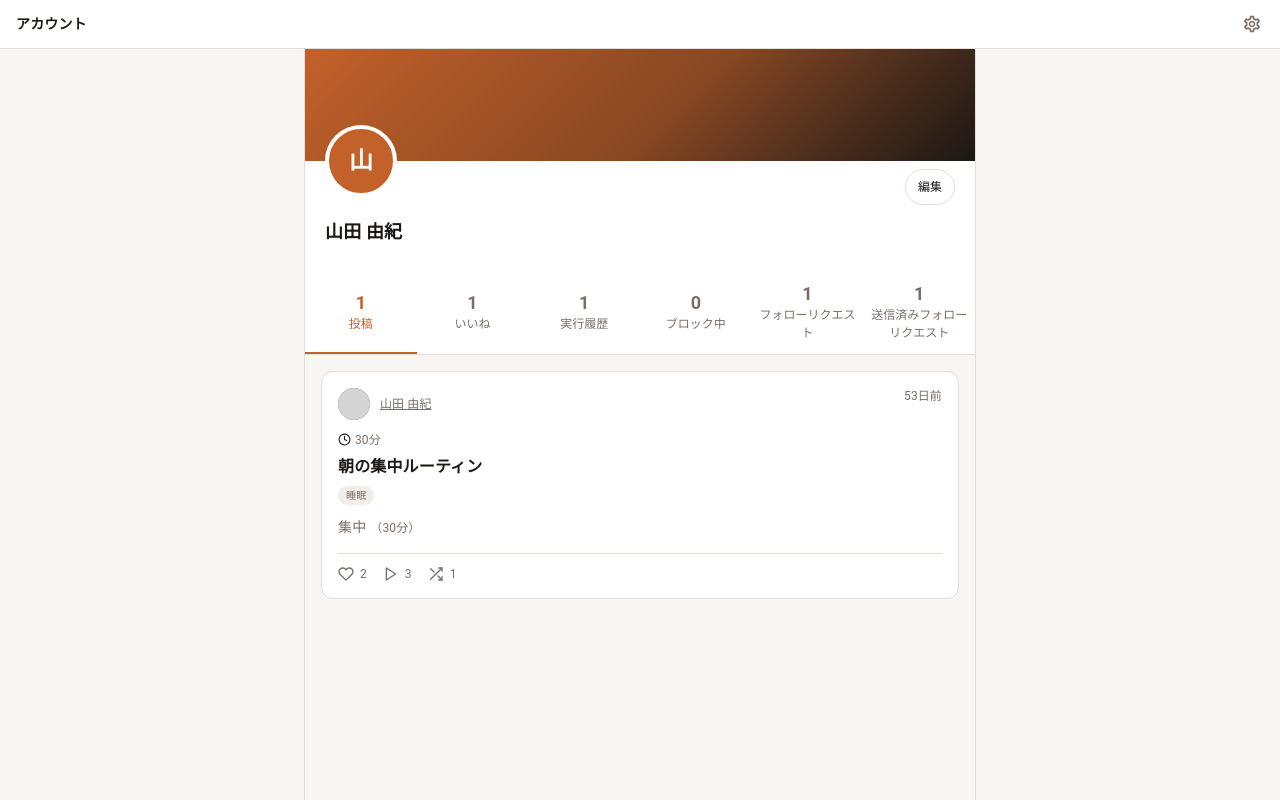
Test: AccountPage › 鍵本人は受信と送信済みフォローリクエストを区別する6タブを表示し、取消失敗時はカードを残す
Check: the heading "山田 由紀" is shown, box [325,221,402,242]
Check: the tab named "1フォローリクエスト" is shown, box [752,275,863,354]
Click the tab named "1送信済みフォローリクエスト" at {"x": 919, "y": 314}, box [863,275,975,354]
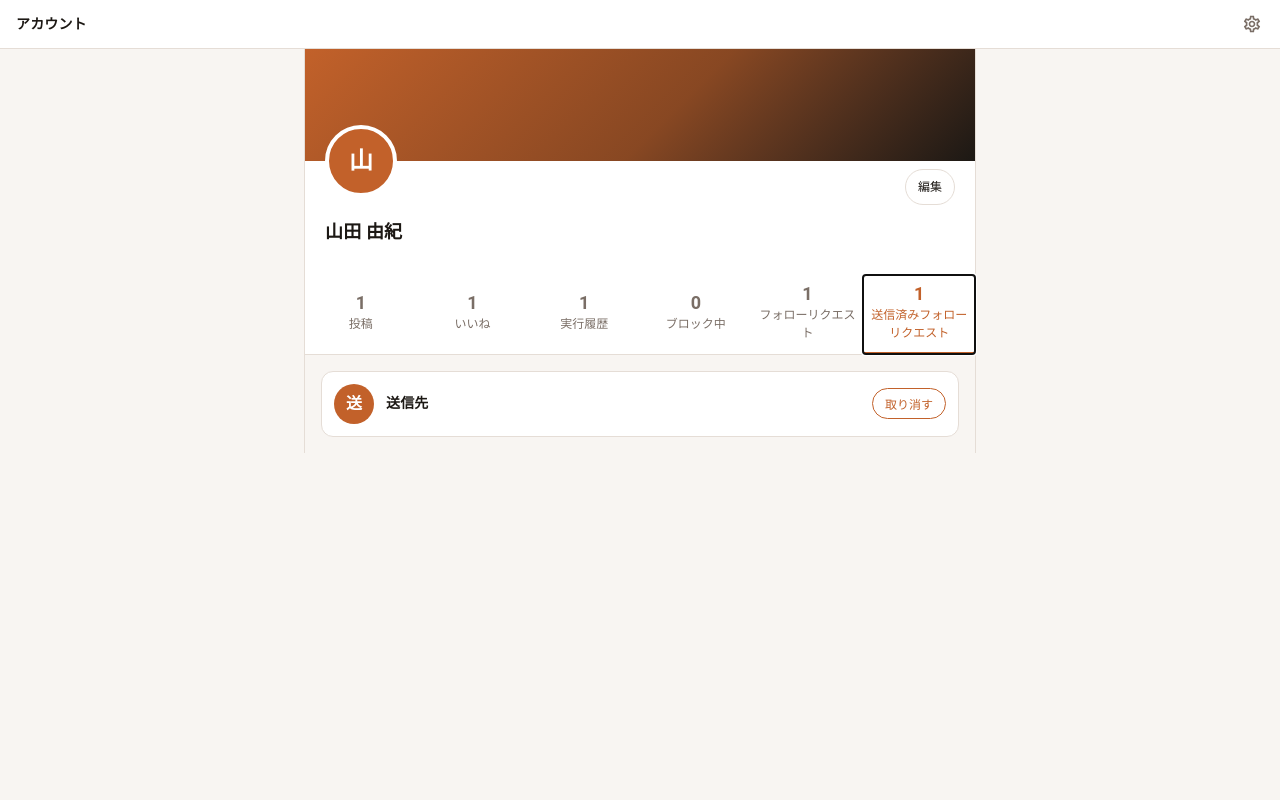
Click the button "取り消す" at {"x": 909, "y": 404}, box [872,388,946,419]
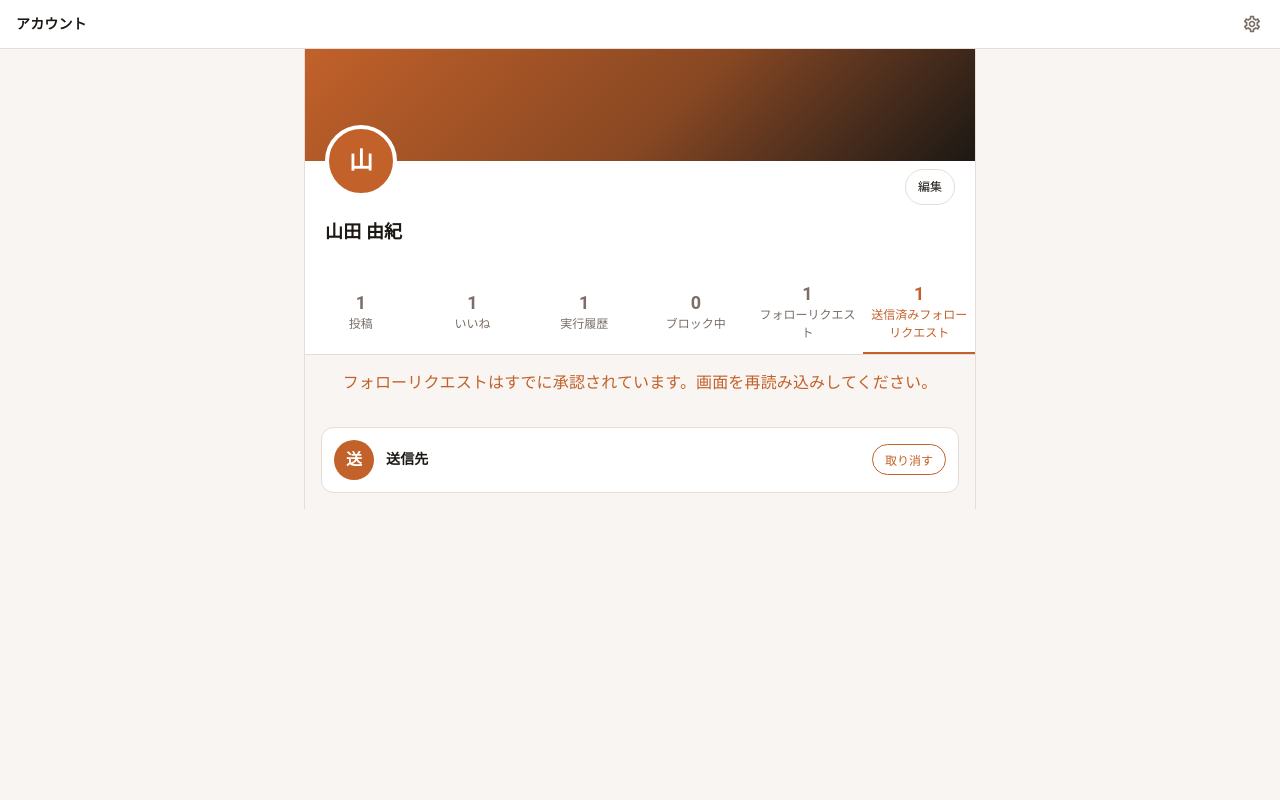
Check: the tab named "1送信済みフォローリクエスト" is shown, box [863,275,975,354]
Check: the link "送 送信先" is shown, box [334,440,428,480]
Check: the message reads "フォローリクエストはすでに承認されています。画面を再読み込みしてください。", box [343,373,937,392]
